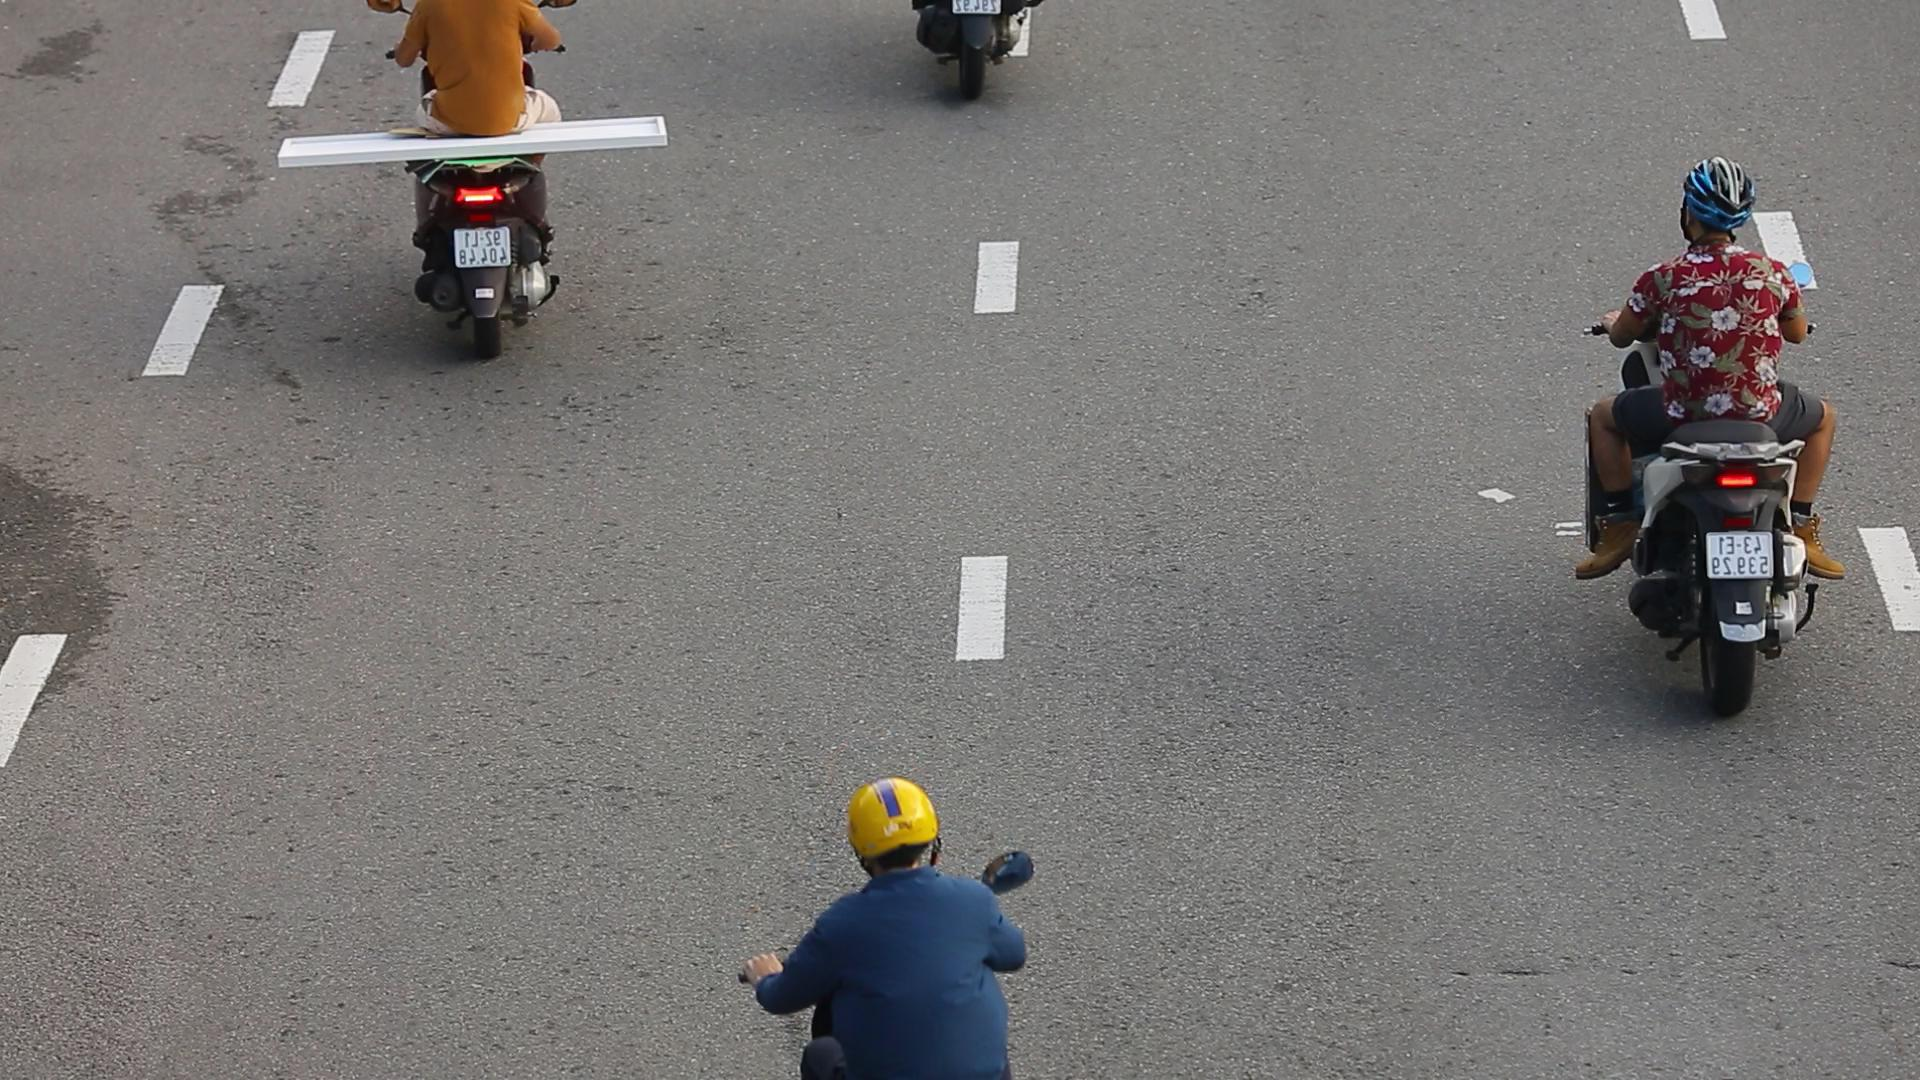motobike: (1556, 153, 1853, 723)
